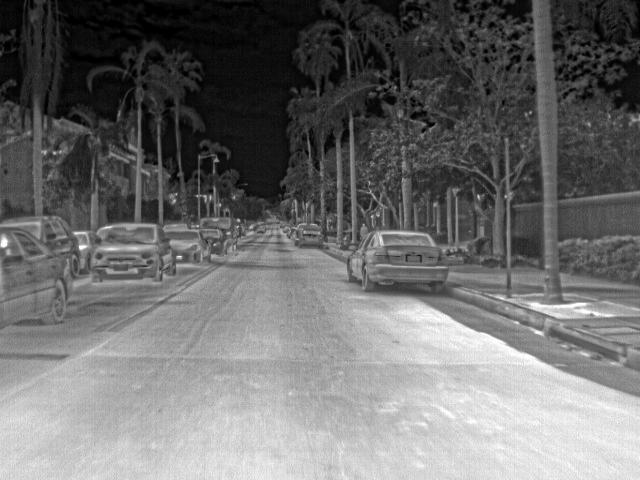car: (0, 226, 78, 330), (346, 229, 451, 294), (91, 220, 176, 284), (0, 213, 78, 255), (202, 214, 239, 253), (168, 228, 210, 262), (72, 228, 95, 276), (197, 227, 228, 255), (297, 222, 325, 250), (96, 225, 114, 240), (235, 222, 248, 238), (288, 226, 300, 240), (281, 224, 293, 235), (256, 225, 266, 233)
person: (358, 220, 367, 239)
